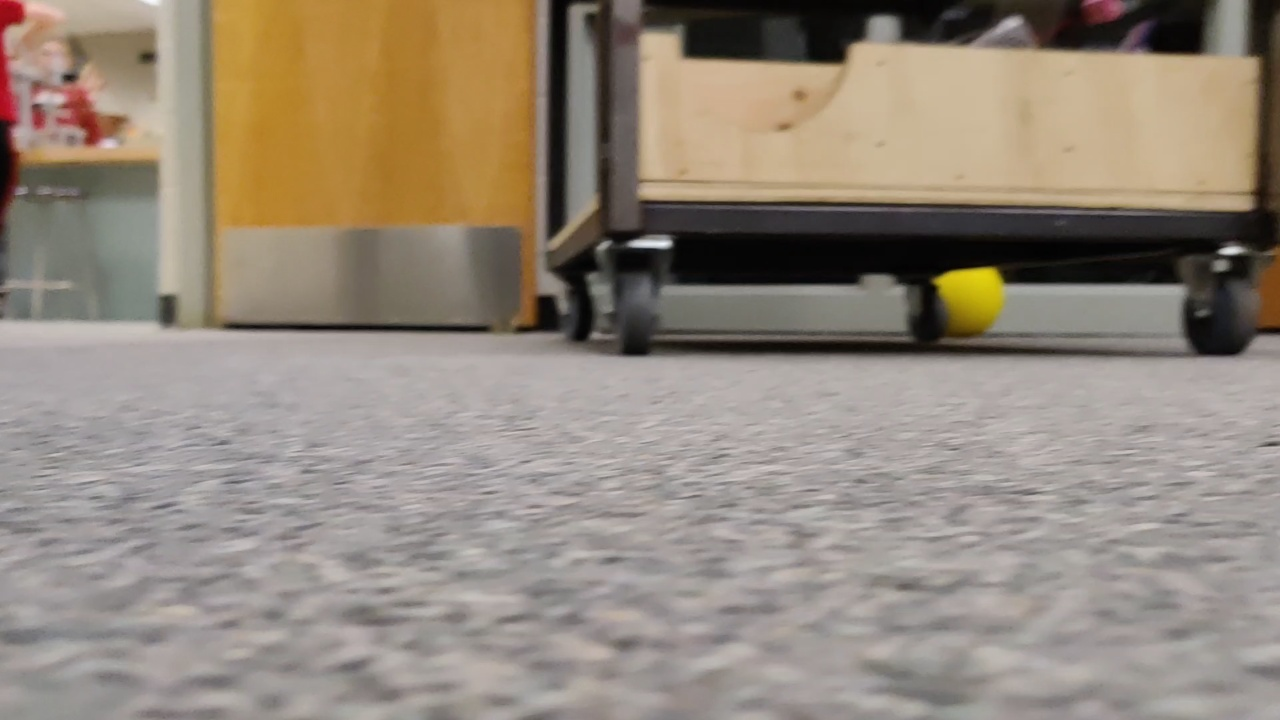Ball: (925, 262, 1013, 345)
